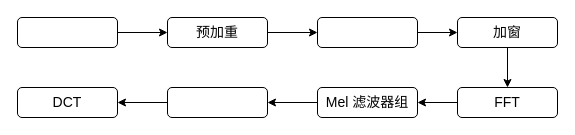
Some shapes in this 575 by 135 pixel diagram are drawn without their labels. The shapes that lost their labels are listed below. From the top down, each one's centre as x and y in pixels, then its label:
At (x=67, y=32): "连续语音".
At (x=367, y=32): "分帧".
At (x=217, y=102): "对数运算".
